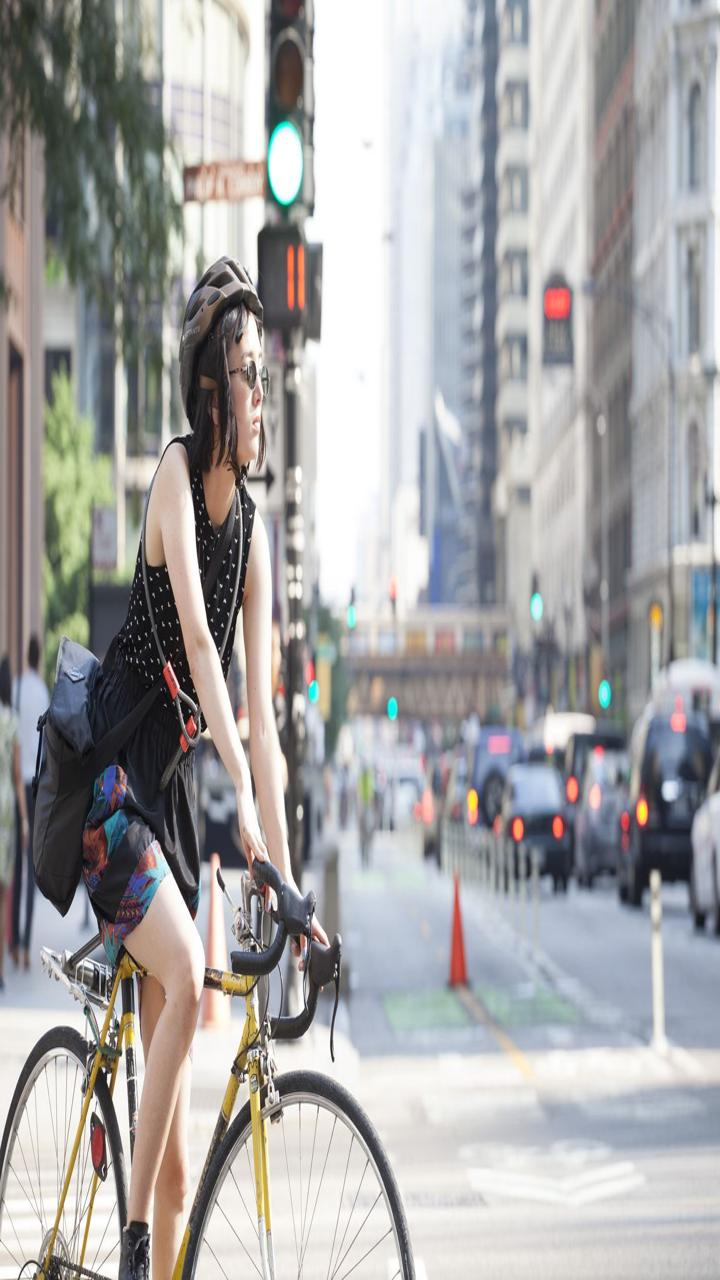Traffic sign: (248, 101, 320, 225)
bicycle: (7, 900, 474, 1280)
cyclist: (51, 200, 336, 1277)
